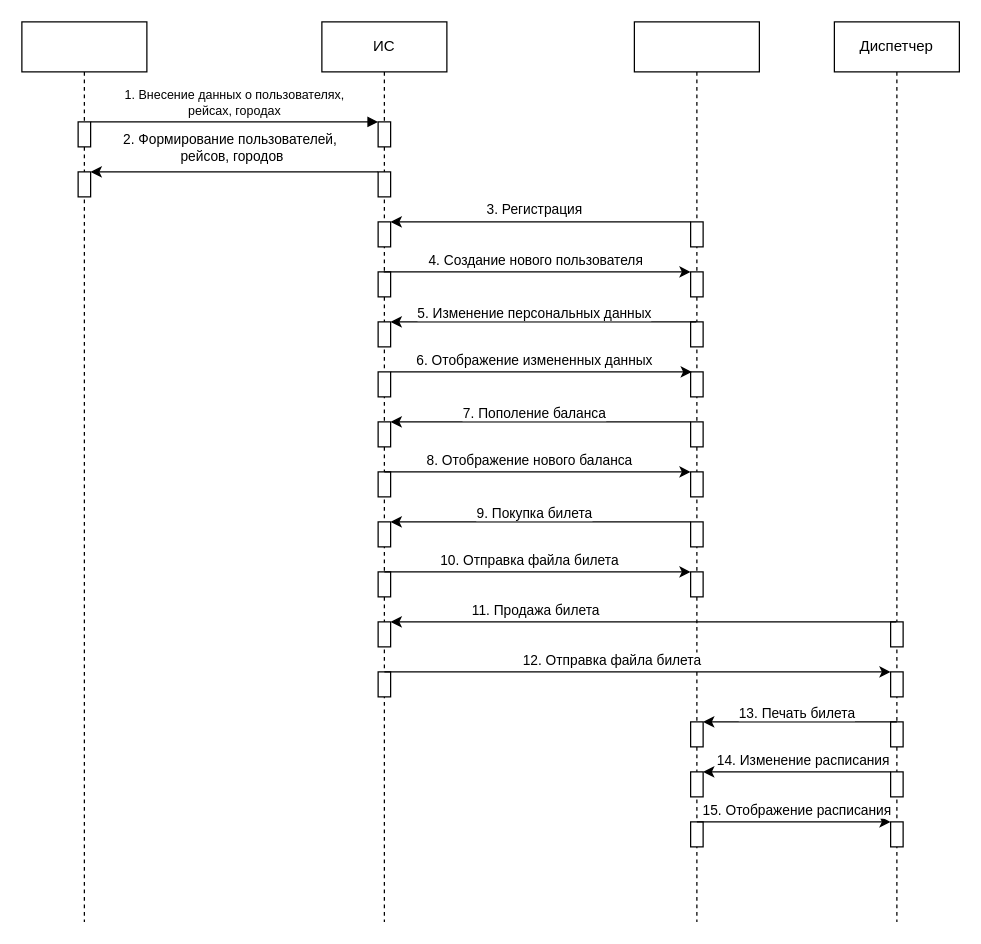
This 981x944 diagram has some shape labels left out. The shapes that lost their labels are listed below. From the top down, each one's box as (x1, y1, x2, y2) in pixels, then its label:
(21, 21, 147, 922): Администратор
(633, 21, 759, 922): Клиент
